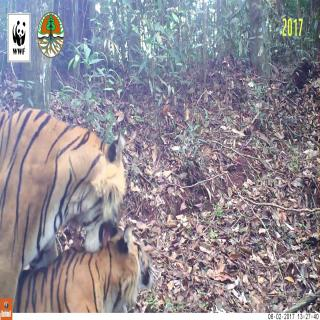Tiger: (0, 100, 135, 272), (22, 213, 154, 315)
